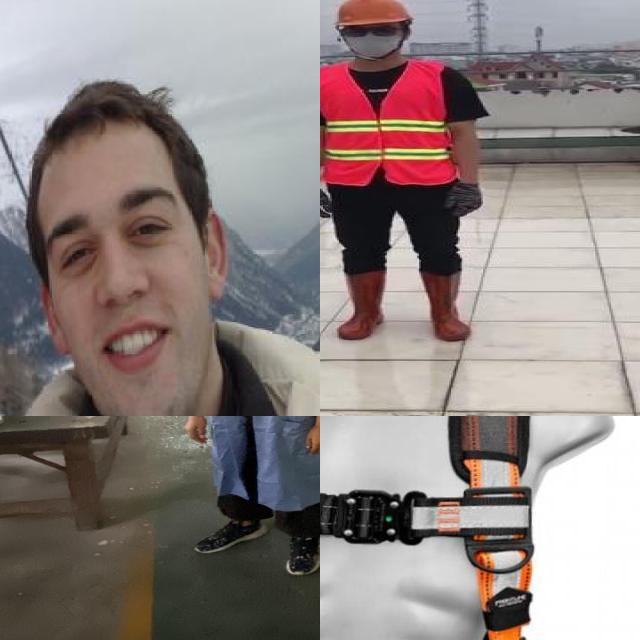Harness: (320, 416, 534, 640)
boots: (414, 270, 476, 342), (339, 272, 389, 340)
face_mask: (337, 22, 408, 56)
face_nomask: (35, 204, 207, 390)
glasses: (338, 22, 408, 40)
hand_glove: (446, 186, 484, 218), (320, 188, 335, 222)
hand_noglove: (180, 416, 217, 446), (295, 422, 320, 459)
head_helmet: (331, 0, 413, 26)
head_nohelmet: (7, 74, 200, 168)
person: (320, 0, 497, 345), (166, 416, 320, 581)
shoes: (181, 516, 277, 558), (272, 522, 320, 581)
vest: (320, 61, 458, 186)
